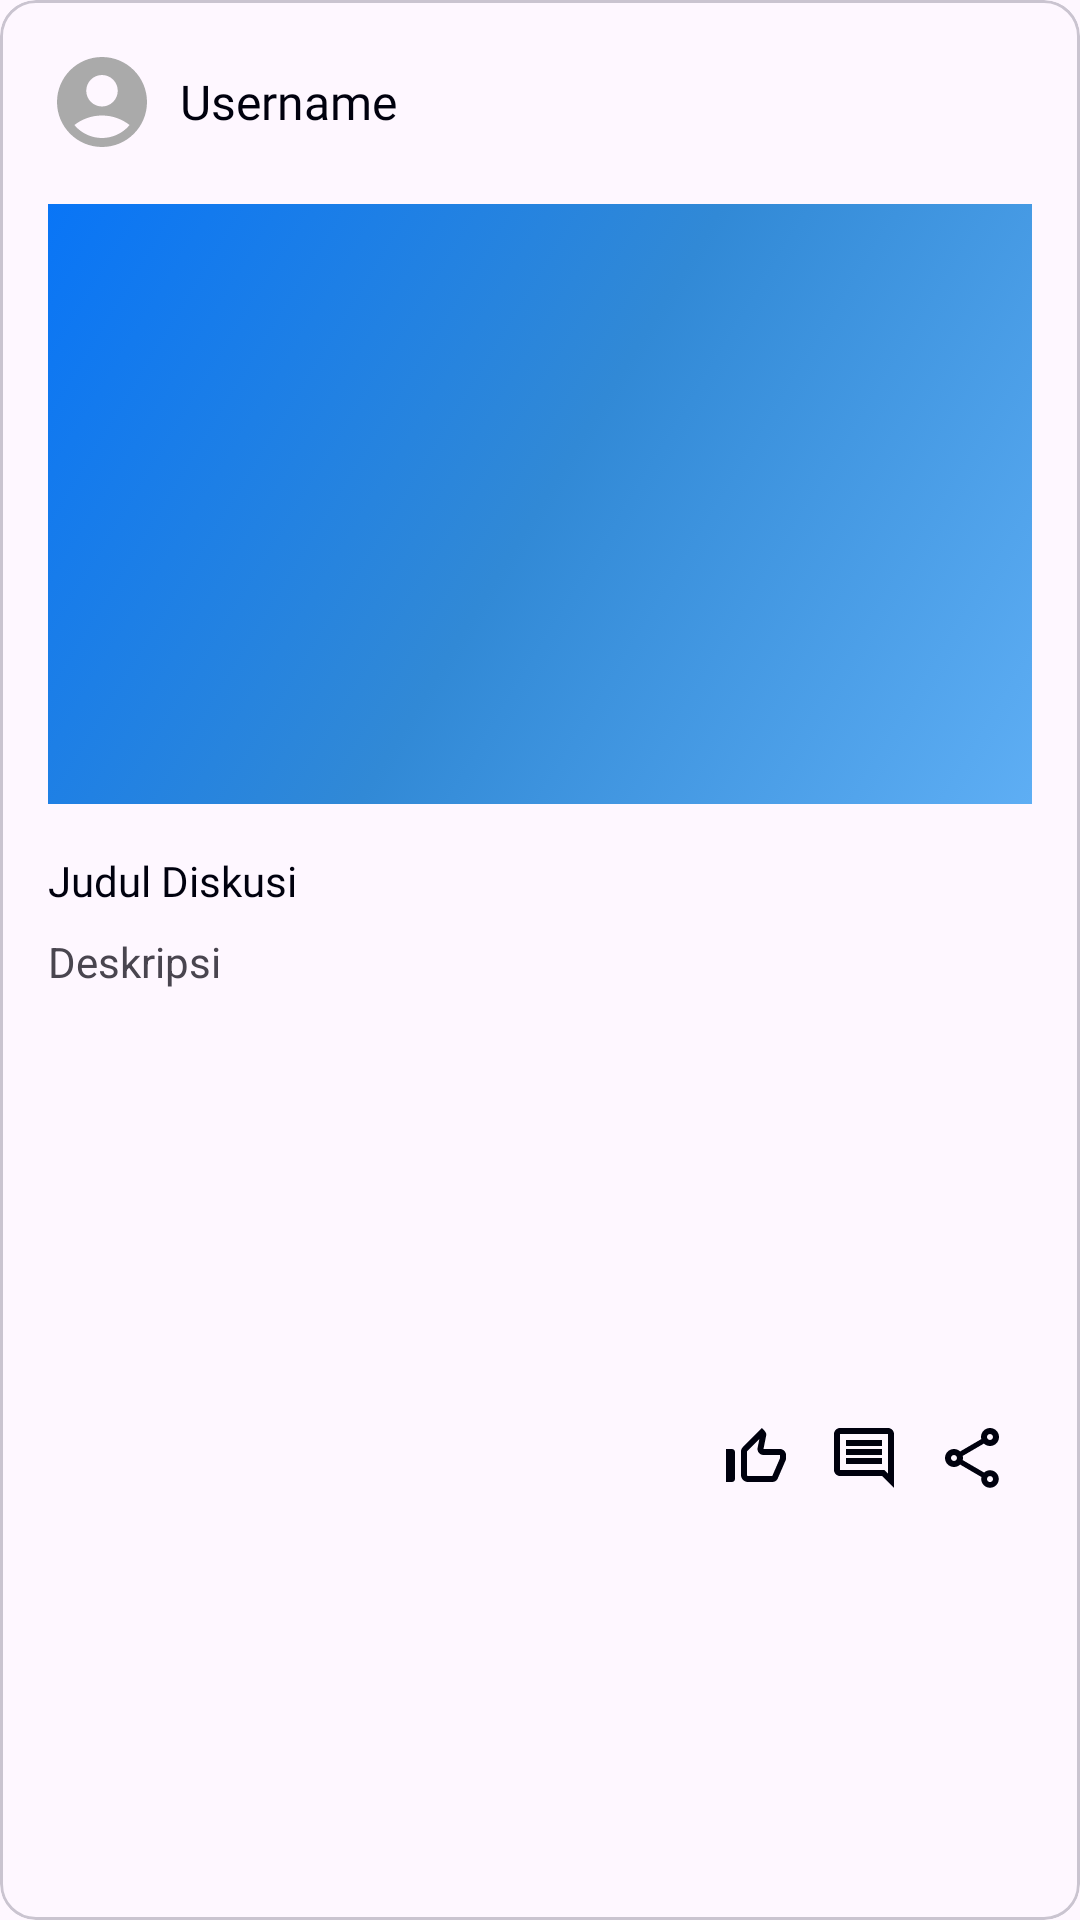

Screen size 1080px x 1920px. Icon name, then its center in pixels as (x=x, y=y):
account circle: (x=102, y=102)
comment: (x=864, y=1458)
Like: (x=756, y=1455)
share: (x=972, y=1458)
